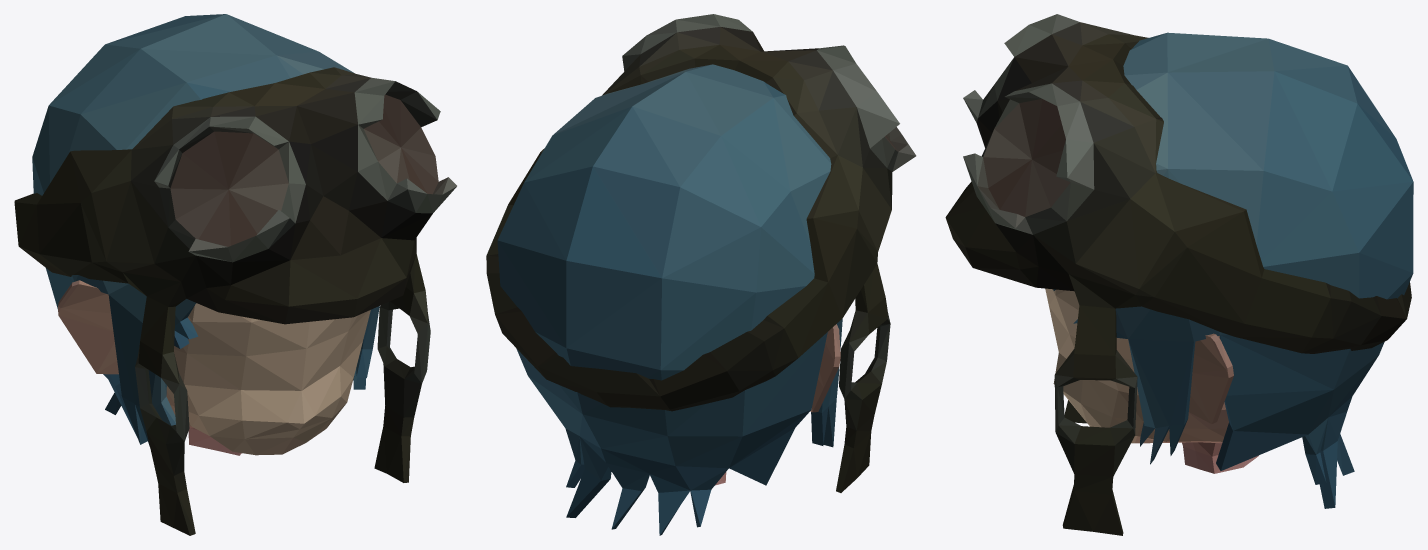
The model's file is helm_lightskin_standard_blue_goggles.fbx.
The picture shows the model from 3 angles, left to right: view 1: azimuth 30°, elevation 25°; view 2: azimuth 150°, elevation 25°; view 3: azimuth 270°, elevation 25°; orthographic projection. The views are drawn at different scales.
Visible parts, largest first — view 1: helm_lightskin_standard_blue_goggles; view 2: helm_lightskin_standard_blue_goggles; view 3: helm_lightskin_standard_blue_goggles.
Part boxes in pixels (x1=…): helm_lightskin_standard_blue_goggles: x1=14, y1=14, x2=456, y2=535; helm_lightskin_standard_blue_goggles: x1=486, y1=14, x2=916, y2=535; helm_lightskin_standard_blue_goggles: x1=945, y1=14, x2=1413, y2=535.
Bounding box in the file's own units: 1.19 × 1.39 × 1.39.
